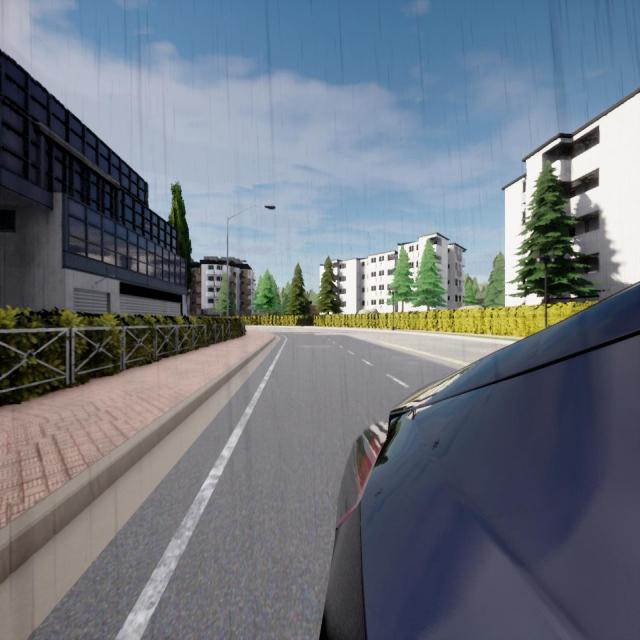Vehicle: (320, 281, 639, 640)
